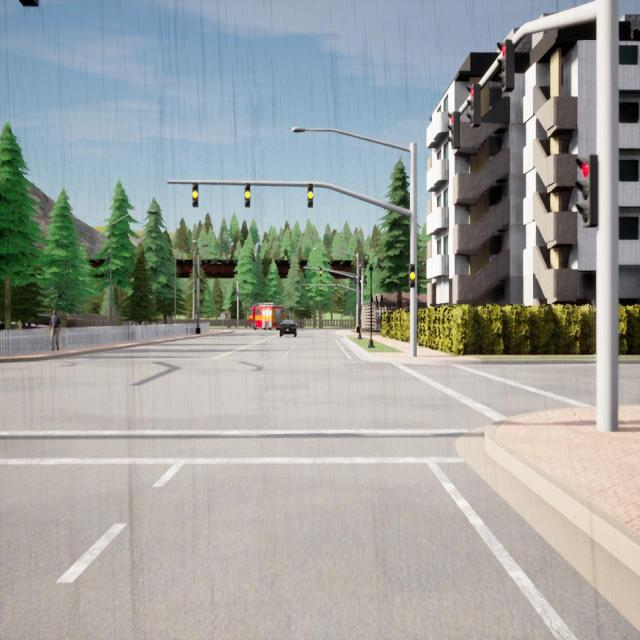Pedestrian: (50, 309, 60, 350)
Traffic_Signs: (220, 313, 226, 320)
Vehicle: (248, 302, 284, 330), (280, 318, 296, 338)
traffic_light: (576, 154, 598, 228), (497, 39, 515, 93), (466, 84, 481, 128), (447, 111, 460, 150), (408, 263, 415, 288), (244, 183, 250, 208), (192, 183, 198, 207), (307, 184, 313, 208), (319, 267, 322, 277), (319, 285, 321, 292), (306, 285, 308, 291), (335, 285, 337, 291), (234, 289, 235, 294)
